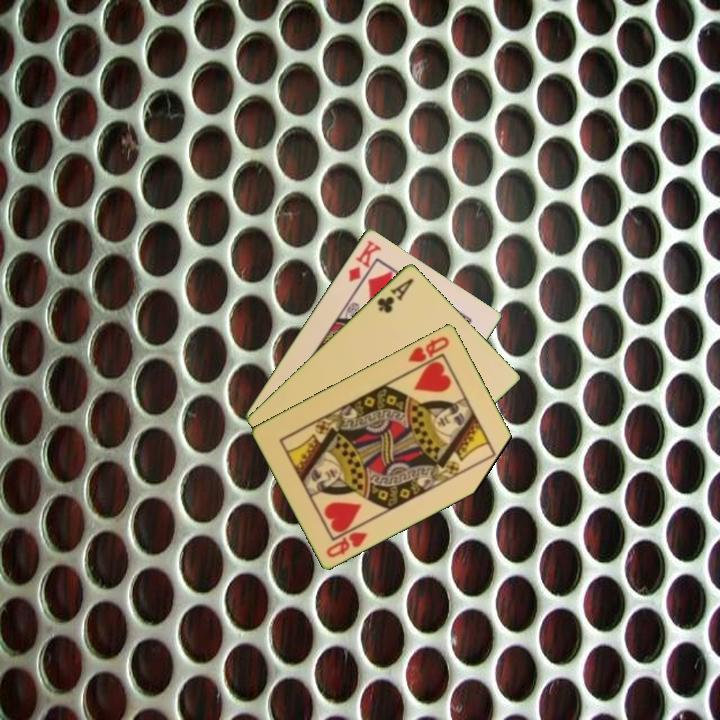Ac: (373, 274, 417, 316)
Kd: (345, 236, 384, 285)
Qh: (404, 332, 452, 365), (323, 528, 371, 560)
